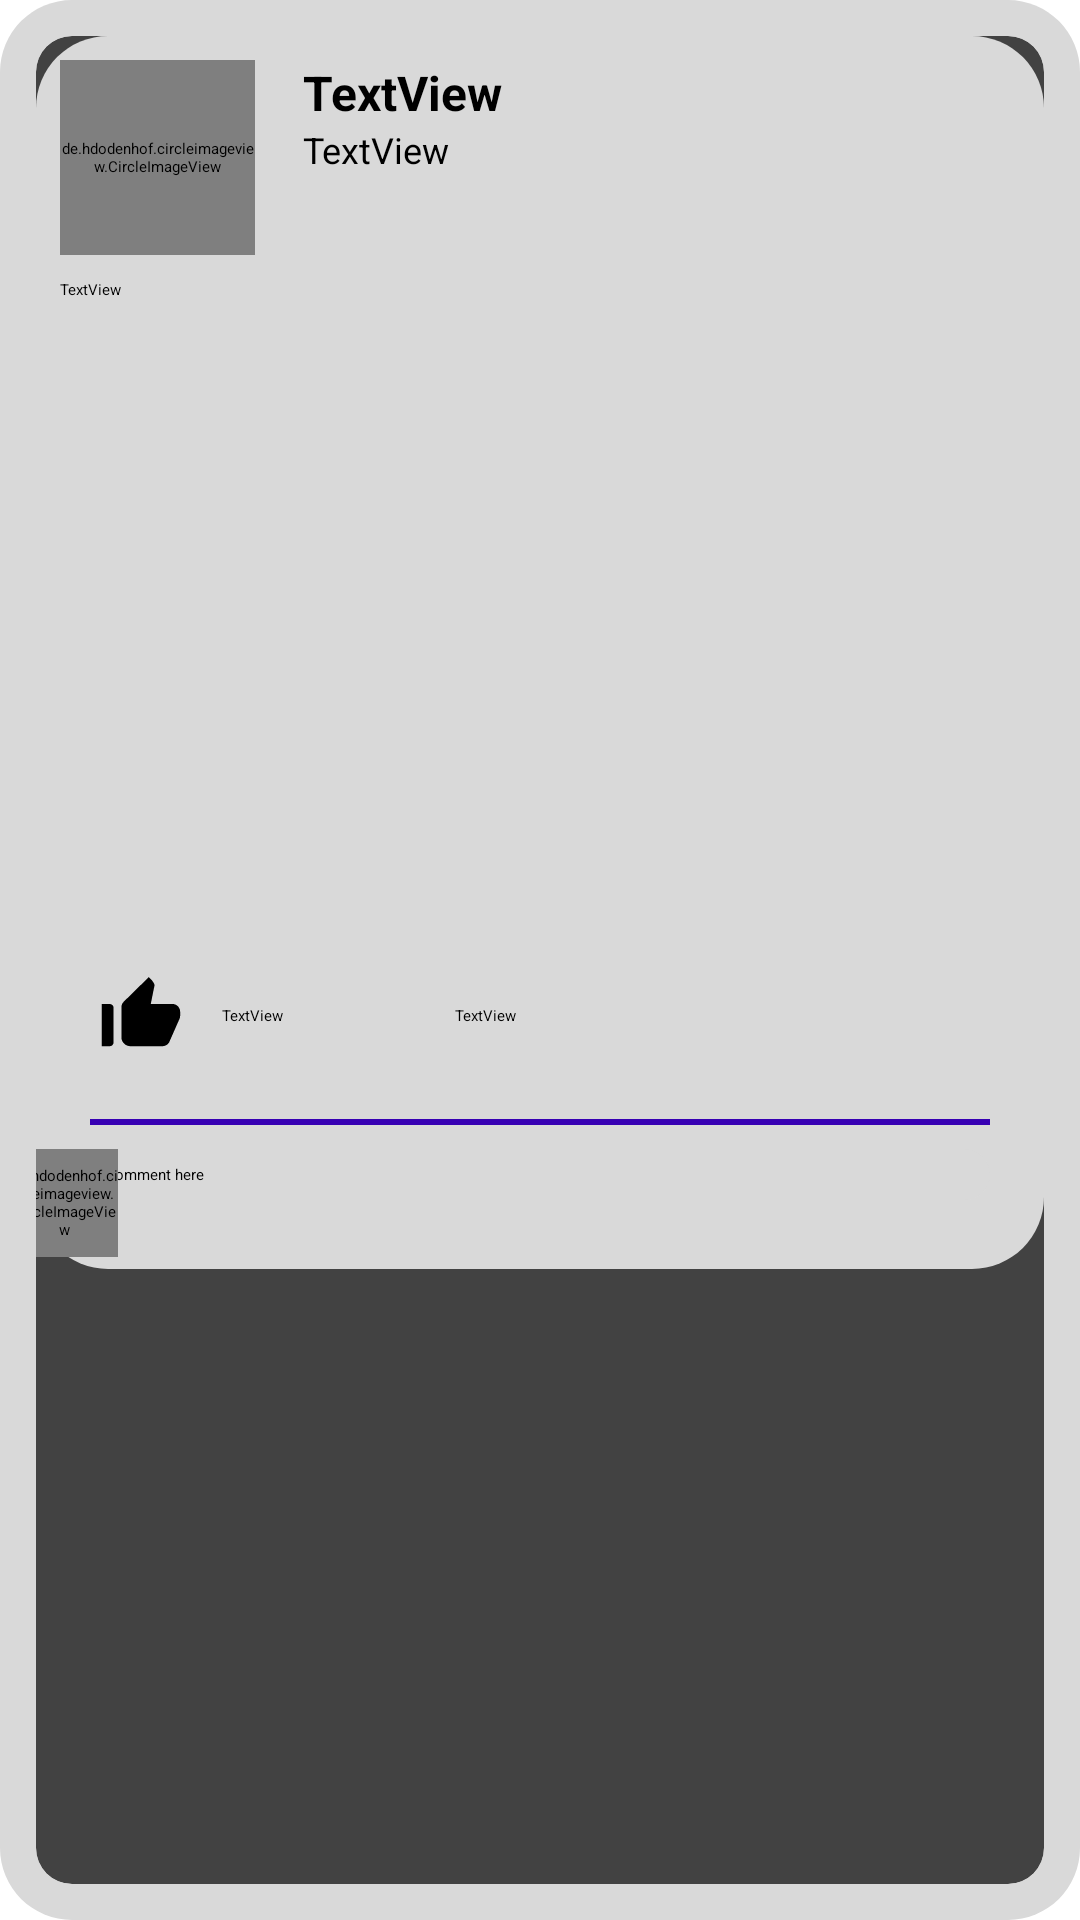

Screen size 1080px×1920px. Icon name, then its center in pixels as (x,y):
thumb up: (141,1012)
